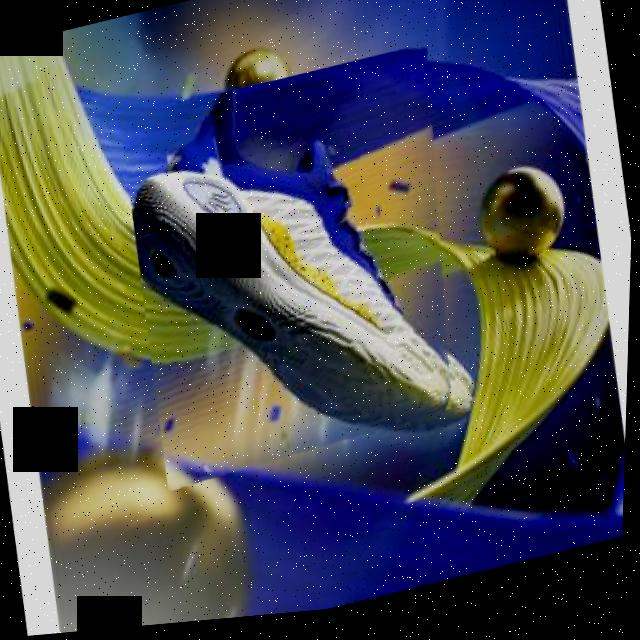shoe: (112, 46, 488, 500)
